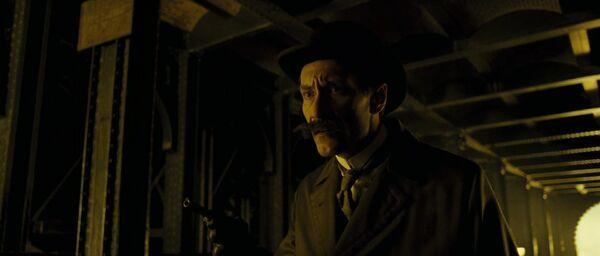Gun: (182, 200, 252, 248)
